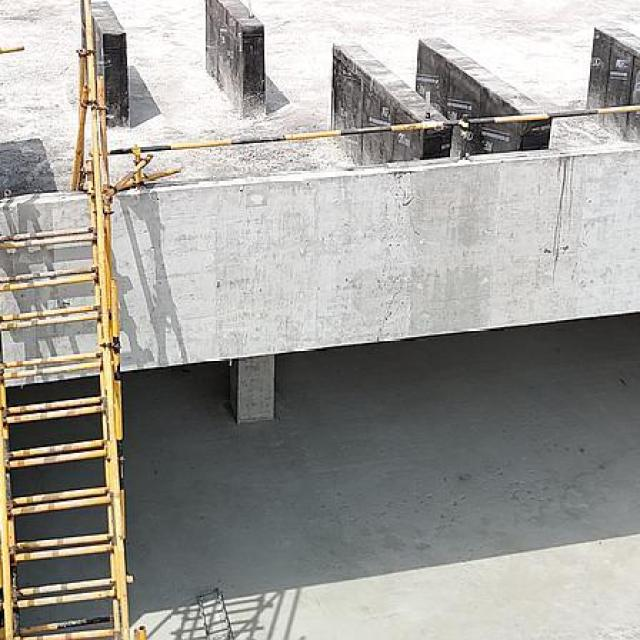edge_guardrail: (90, 102, 640, 189)
